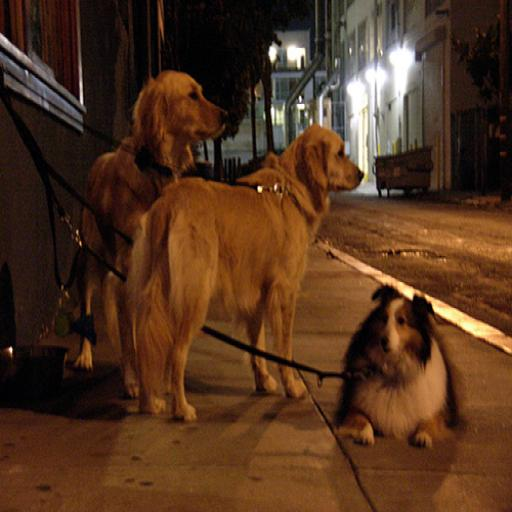dog_face: (367, 285, 438, 364)
